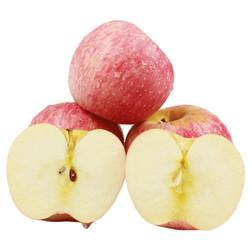apple: (70, 19, 175, 124)
